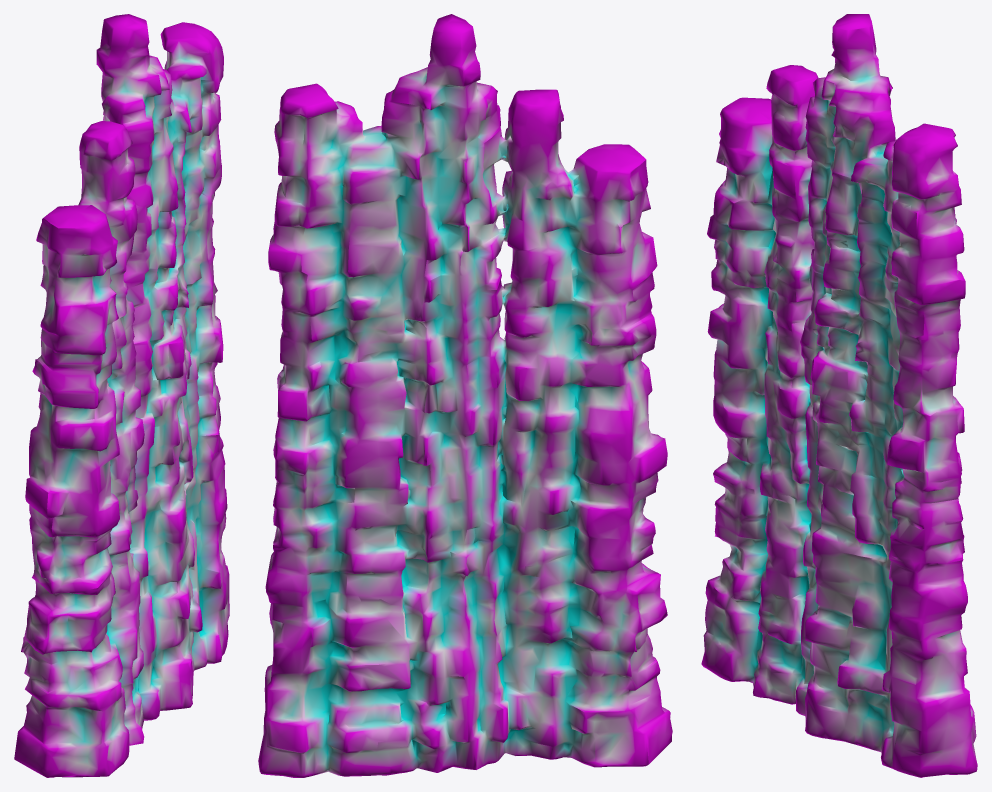
The model's file is Macico_6_Longe.fbx.
3 views of the same model, side by side, from view 1: azimuth 30°, elevation 25°; view 2: azimuth 150°, elevation 25°; view 3: azimuth 270°, elevation 25° (orthographic). The views are drawn at different scales.
Parts seen in each view (by area): view 1: Macico_6_Longe; view 2: Macico_6_Longe; view 3: Macico_6_Longe.
Boxes of the visible parts, x1,y1,x2,y2 form: Macico_6_Longe: (14,14,229,777); Macico_6_Longe: (258,14,672,777); Macico_6_Longe: (701,14,977,777).
Bounding box in the file's own units: 160 × 367 × 132.
